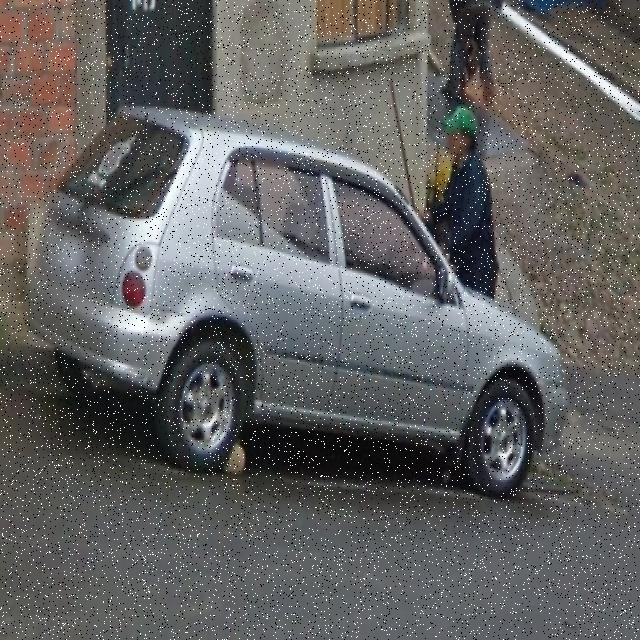cars: (16, 84, 584, 504)
